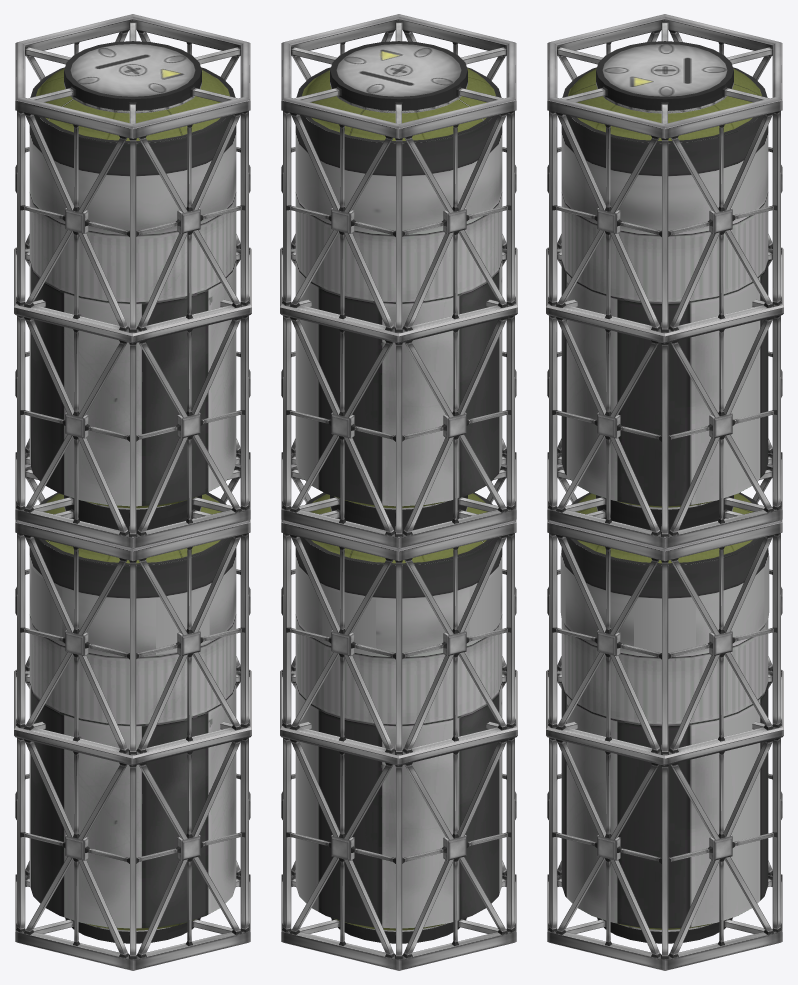
The model's file is HexTrussDouble.FBX.
3 views of the same model, side by side, from view 1: azimuth 30°, elevation 25°; view 2: azimuth 150°, elevation 25°; view 3: azimuth 270°, elevation 25° (orthographic).
Parts seen in each view (by area): view 1: TankBody001, TankBody, EndBeam014, EndCap026, EndCap021 (×2), EndBeam004, EndBeam013, EndBeam012, EndBeam015, EndBeam011, EndCap001, decalPanel001 (+32 smaller); view 2: TankBody001, TankBody, EndBeam014, EndCap026, EndCap021 (×2), EndBeam004, EndBeam013, EndBeam012, EndBeam015, EndBeam011, EndCap001, decalPanel003 (+32 smaller); view 3: TankBody001, TankBody, EndBeam014, EndCap026, EndCap021, EndBeam004, EndBeam013, EndBeam012, EndBeam015, EndBeam011, decalPanel002, EndCap001 (+32 smaller).
Boxes of the visible parts, x1,y1,x2,y2 form: TankBody001: (29, 115, 236, 506); TankBody: (29, 537, 236, 928); EndBeam014: (15, 14, 250, 138); EndCap026: (64, 41, 201, 104); EndCap021 (×2): (30, 67, 235, 531); EndBeam004: (14, 669, 251, 765); EndBeam013: (14, 247, 251, 343); EndBeam012: (15, 874, 250, 970); EndBeam015: (15, 452, 250, 548); EndBeam011: (15, 464, 250, 561); EndCap001: (38, 492, 227, 565); decalPanel001: (156, 586, 209, 654); TankBody001: (295, 115, 502, 506); TankBody: (295, 537, 502, 928); EndBeam014: (281, 14, 516, 138); EndCap026: (330, 41, 467, 102); EndCap021 (×2): (296, 67, 501, 531); EndBeam004: (280, 669, 517, 765); EndBeam013: (280, 247, 517, 343); EndBeam012: (281, 874, 516, 970); EndBeam015: (281, 452, 516, 548); EndBeam011: (281, 464, 516, 561); EndCap001: (304, 492, 493, 565); decalPanel003: (322, 586, 375, 654); TankBody001: (561, 115, 768, 506); TankBody: (561, 537, 768, 928); EndBeam014: (547, 14, 782, 138); EndCap026: (596, 41, 733, 105); EndCap021: (562, 67, 767, 142); EndBeam004: (546, 669, 783, 765); EndBeam013: (546, 247, 783, 343); EndBeam012: (547, 874, 782, 970); EndBeam015: (547, 452, 782, 548); EndBeam011: (547, 464, 782, 561); decalPanel002: (634, 599, 695, 655); EndCap001: (570, 492, 759, 565).
Size of what is drawn, in the model's own units: 2.49 by 8.46 by 2.16.
